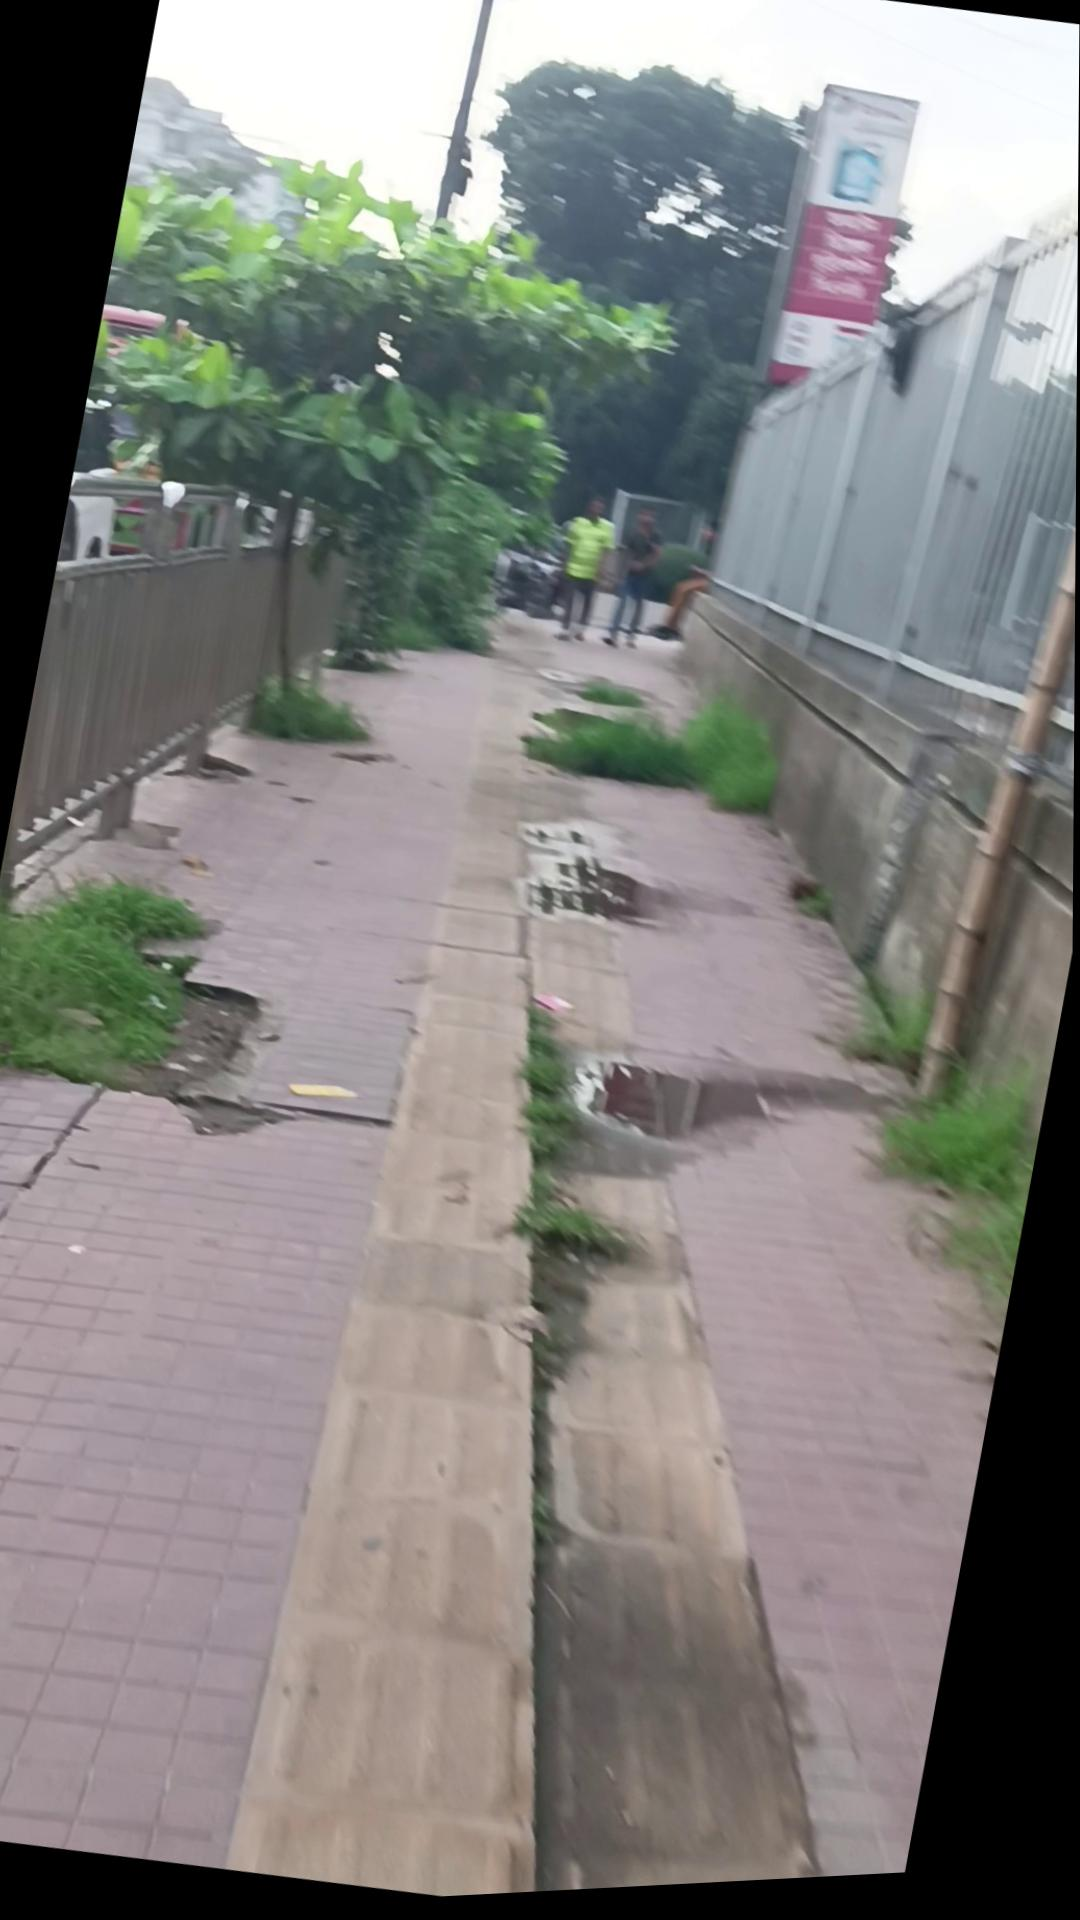Car: (484, 508, 580, 625)
Muddy road: (543, 496, 625, 653), (600, 510, 671, 659)
Potted-plant: (0, 516, 1077, 1920)
Railroad-crossing: (539, 1022, 913, 1213), (517, 814, 729, 956)
